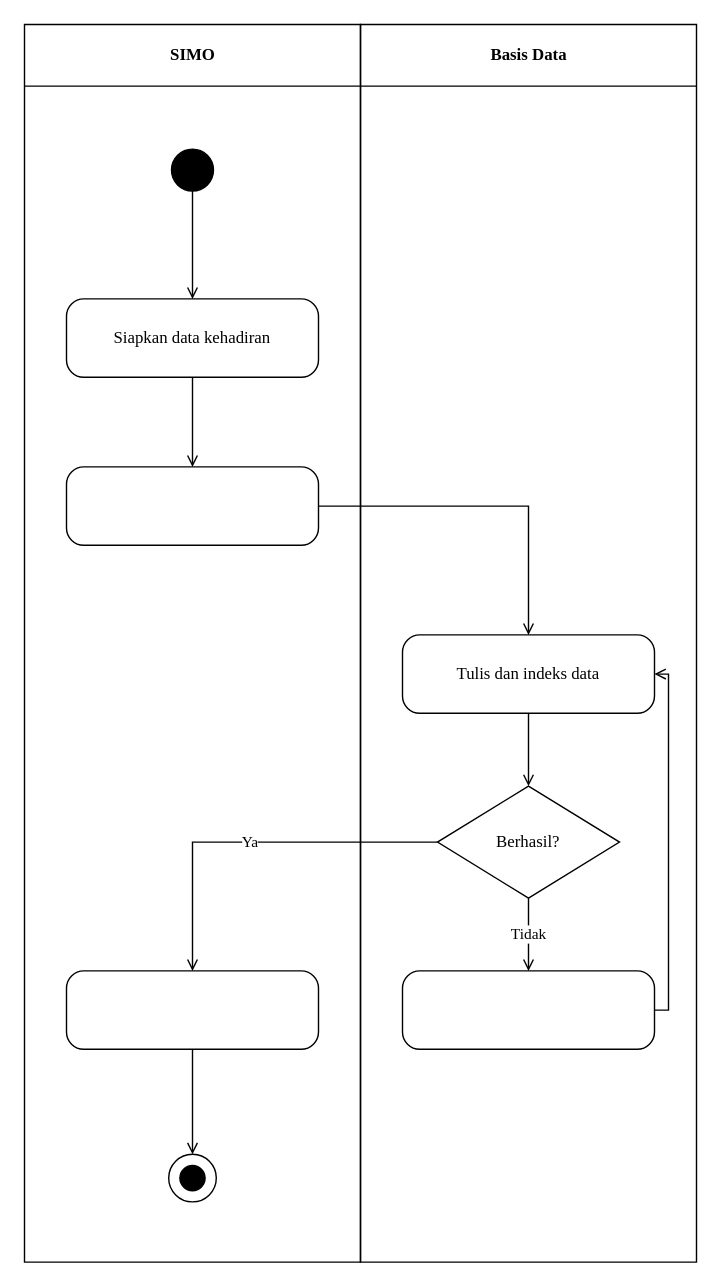
Image size: 721x1287. Some labels were removed from this diagram. Here are the shapes that lost their labels. From the top down, the centre of each, then its label:
point 191,505: Kirim perintah simpan
point 191,1009: Terima konfirmasi
point 527,1009: Catat error, ulangi
